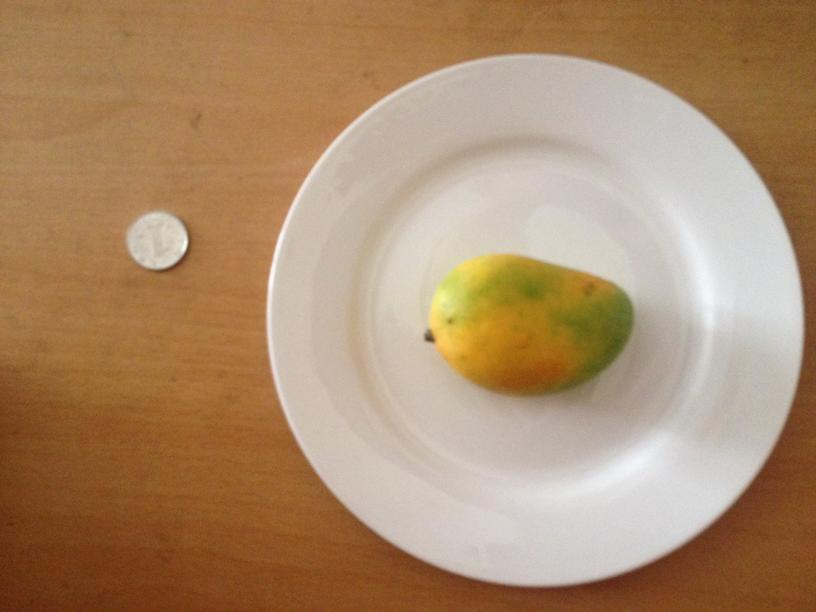coin: (123, 210, 189, 271)
mango: (431, 252, 632, 395)
